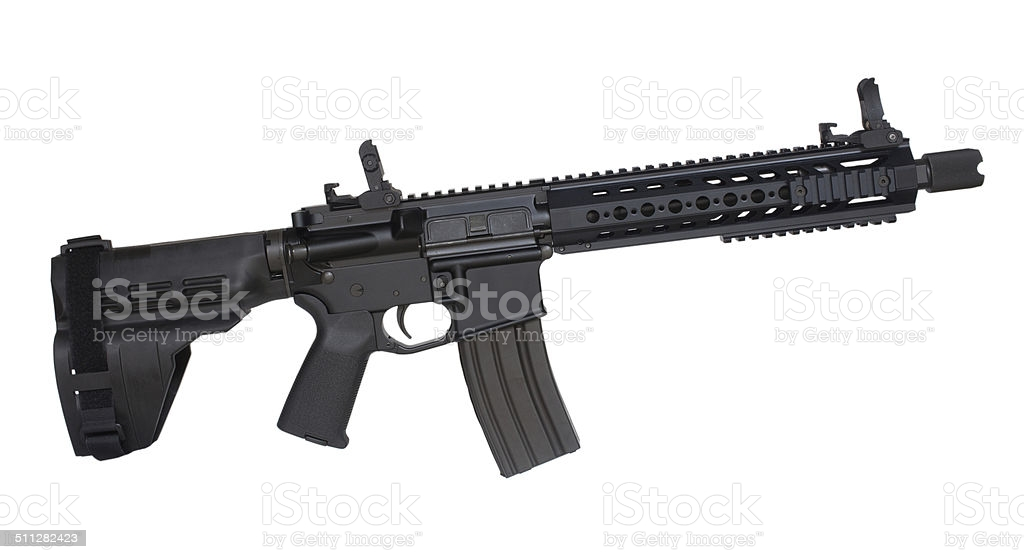Arma Real: (43, 75, 987, 476)
